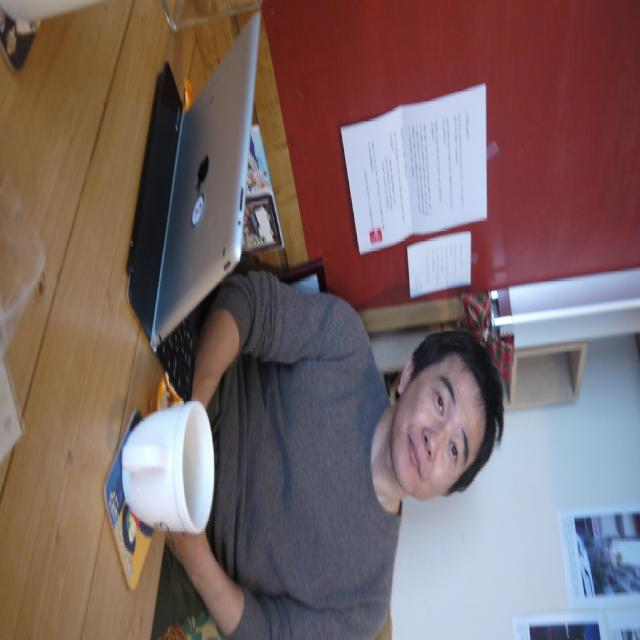desk: (1, 3, 155, 634)
laptop: (127, 15, 259, 358)
person: (148, 262, 510, 634)
